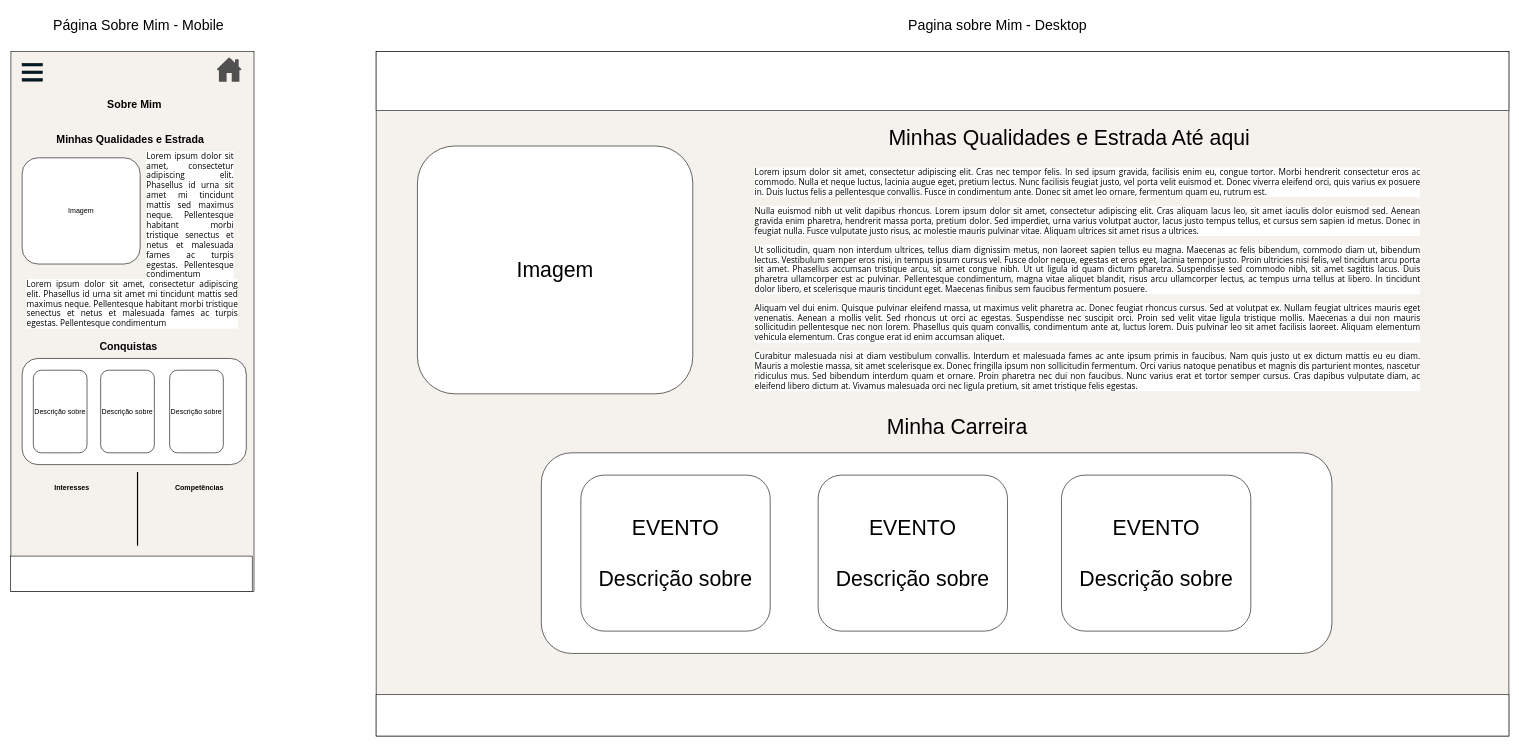
Image size: 1519x746. Some labels were removed from this diagram. The shapes that lost their labels are listed below. From the top down, each one's centre as x and y in pixels, then its label:
At pixel 942 81: "Página Inicial Sobre Mim Contato Serviços".
At pixel 131 573: "Criado por Felipe Angelo".
At pixel 942 715: "Created by Felipe - CC1M".
